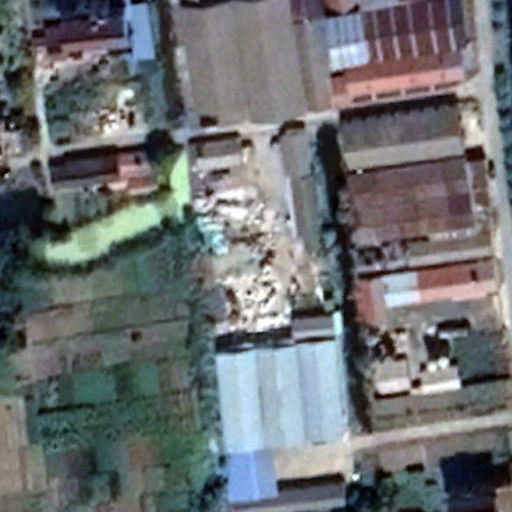msw: (196, 184, 290, 337)
